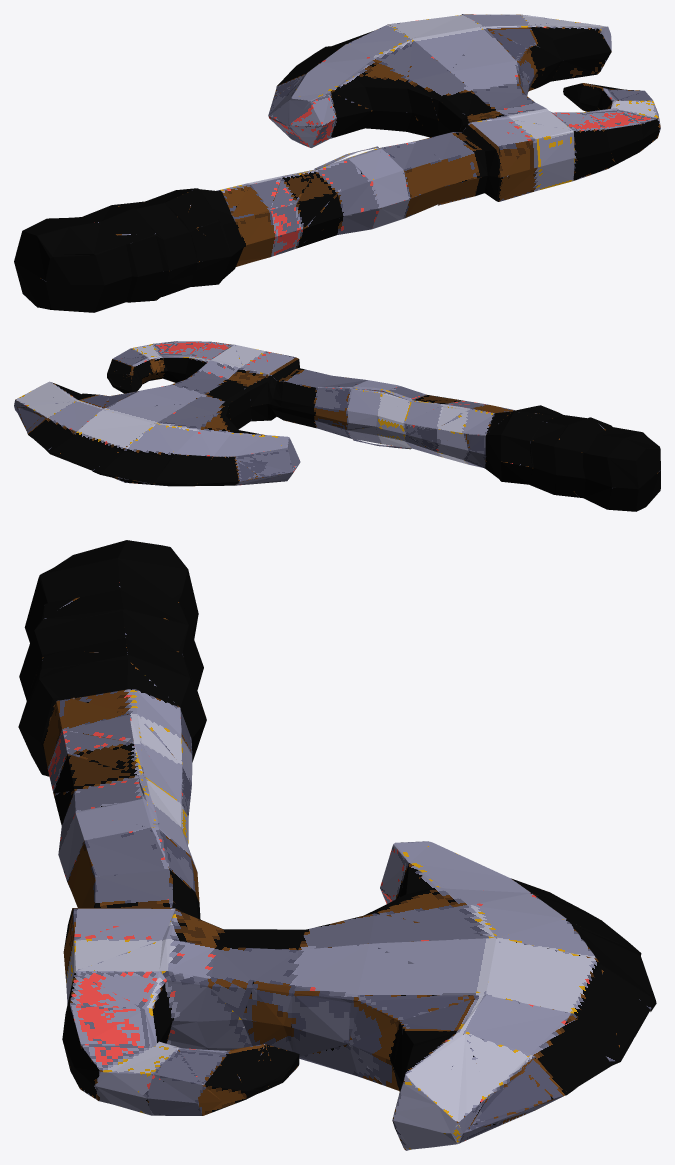
3 renders of one model, top to bottom at view 1: azimuth 30°, elevation 25°; view 2: azimuth 150°, elevation 25°; view 3: azimuth 270°, elevation 25°, orthographic. The views are drawn at different scales.
Parts seen in each view (by area): view 1: OBJ00b; view 2: OBJ00b; view 3: OBJ00b.
Boxes of the visible parts, x1,y1,x2,y2 form: OBJ00b: (14,14,660,312); OBJ00b: (14,341,660,511); OBJ00b: (18,540,656,1150).
Bounding box in the file's own units: 0.3698 × 0.0455 × 0.1844.
Materials: 1 (1 with a texture image).
